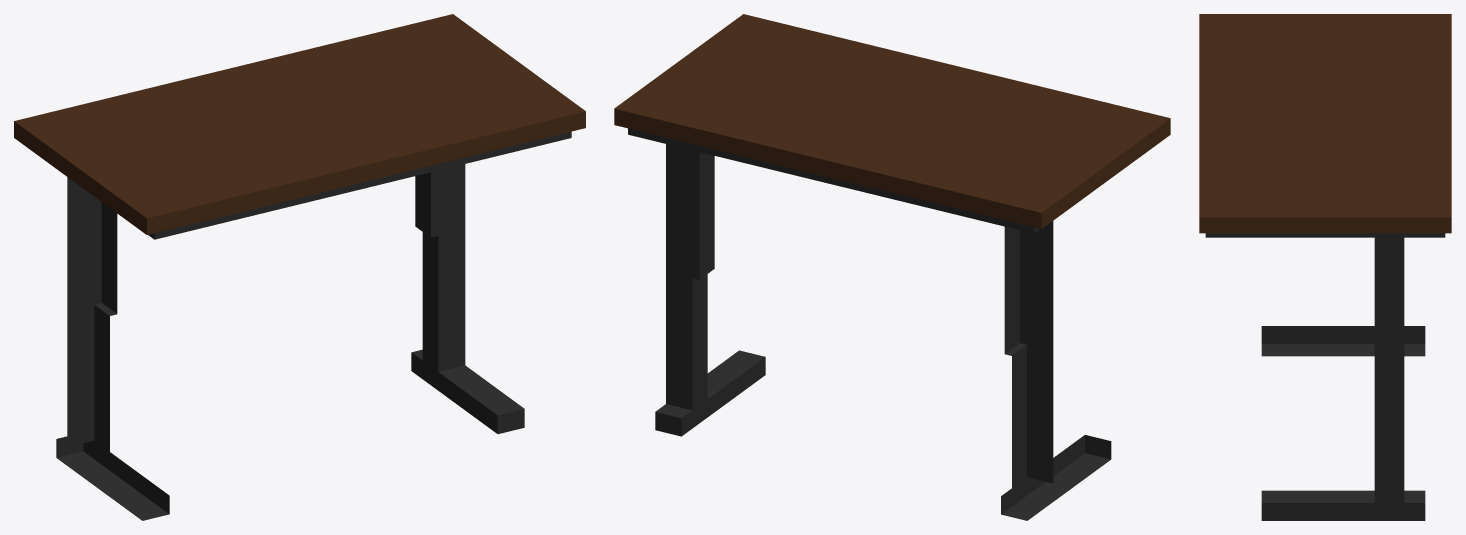
The model's file is standingDesk.fbx.
3 renders of one model, left to right at view 1: azimuth 30°, elevation 25°; view 2: azimuth 150°, elevation 25°; view 3: azimuth 270°, elevation 25°, orthographic. The views are drawn at different scales.
Visible parts, largest first — view 1: Standing Desk; view 2: Standing Desk; view 3: Standing Desk.
Boxes of the visible parts, left/top/right/bottom form: Standing Desk: left=14, top=14, right=585, bottom=520; Standing Desk: left=614, top=14, right=1170, bottom=520; Standing Desk: left=1199, top=14, right=1451, bottom=520.
Size of the model in its own units: 55.78 by 106 by 77.25.
